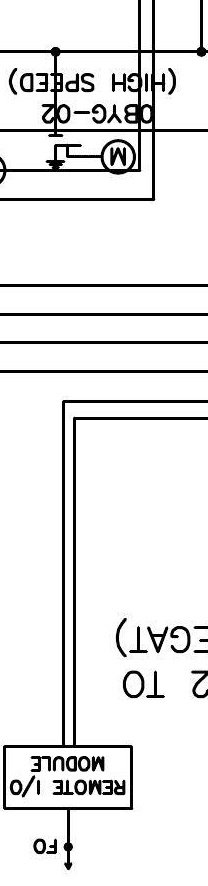115_gs_w_motor: (44, 134, 137, 176)
remote_io_module: (3, 745, 134, 810)
